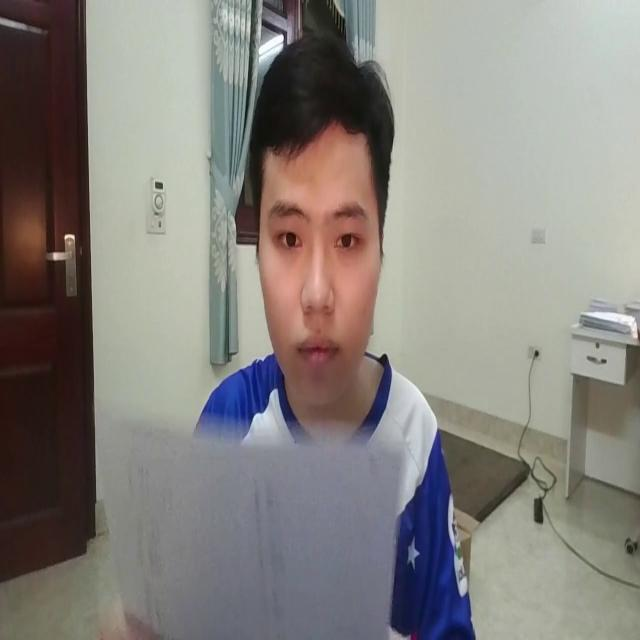book: (70, 359, 417, 640)
student: (158, 26, 482, 640)
